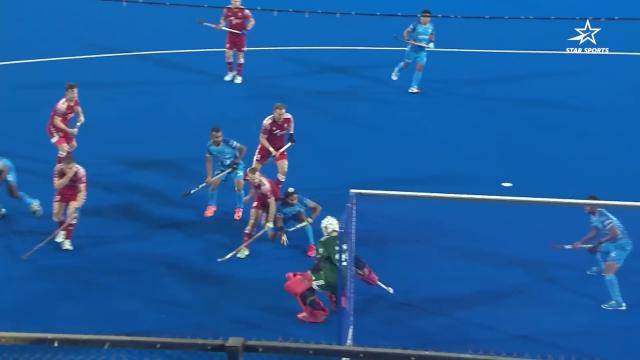ball: (501, 180, 515, 193)
